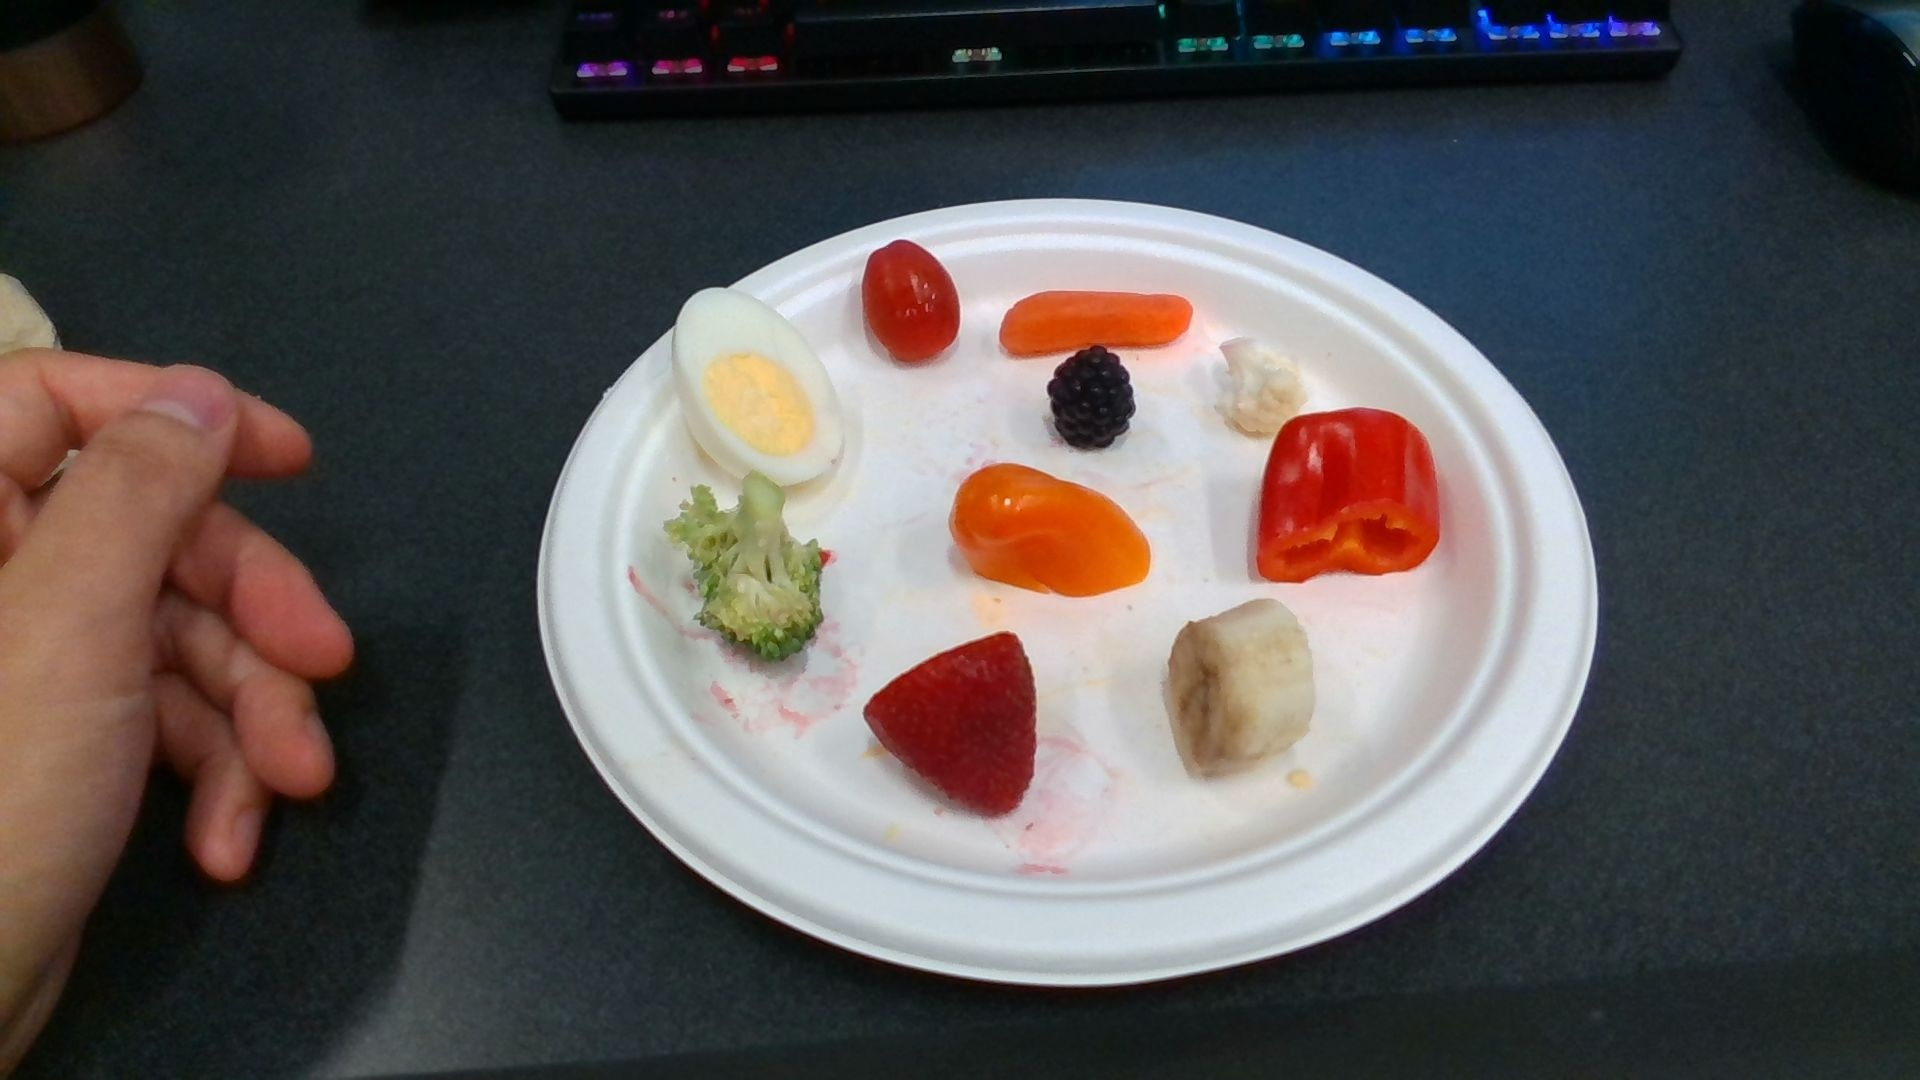banana: (1167, 601, 1317, 773)
bell_pepper: (1261, 410, 1439, 582), (949, 465, 1150, 597)
blackberry: (1048, 345, 1134, 450)
broccoli: (665, 475, 822, 661)
carrot: (1000, 290, 1189, 355)
cauliflower: (1222, 335, 1304, 433)
cherry_tomato: (864, 241, 960, 365)
egg: (675, 286, 844, 481)
strawberry: (864, 633, 1035, 818)
